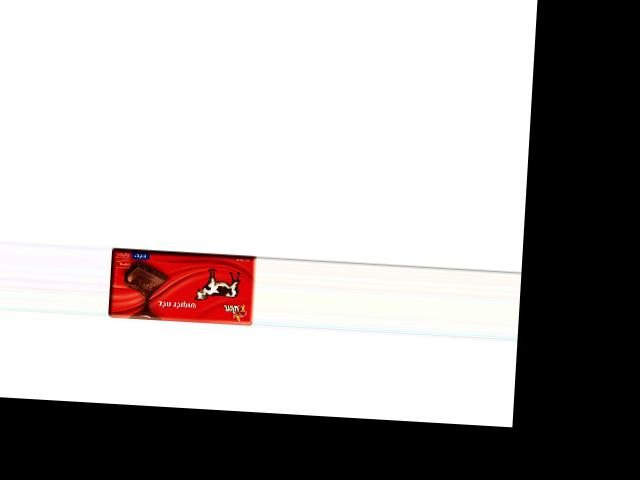chocolate: (107, 248, 257, 326)
